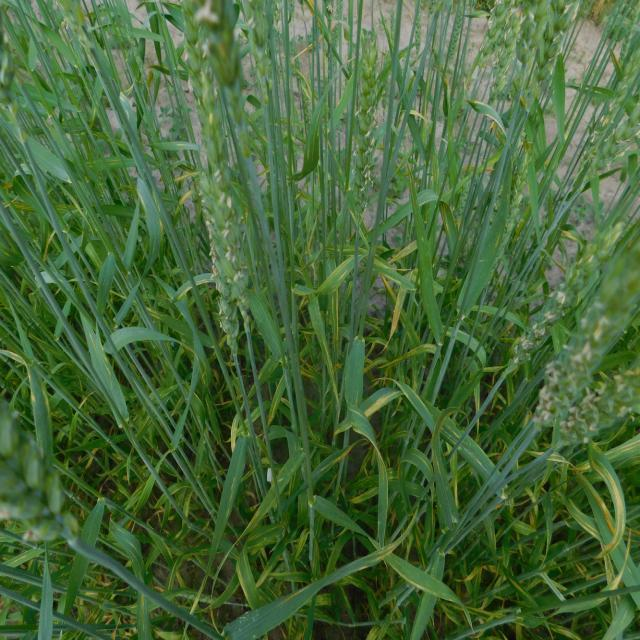Yellow Rust: (250, 203, 632, 635)
